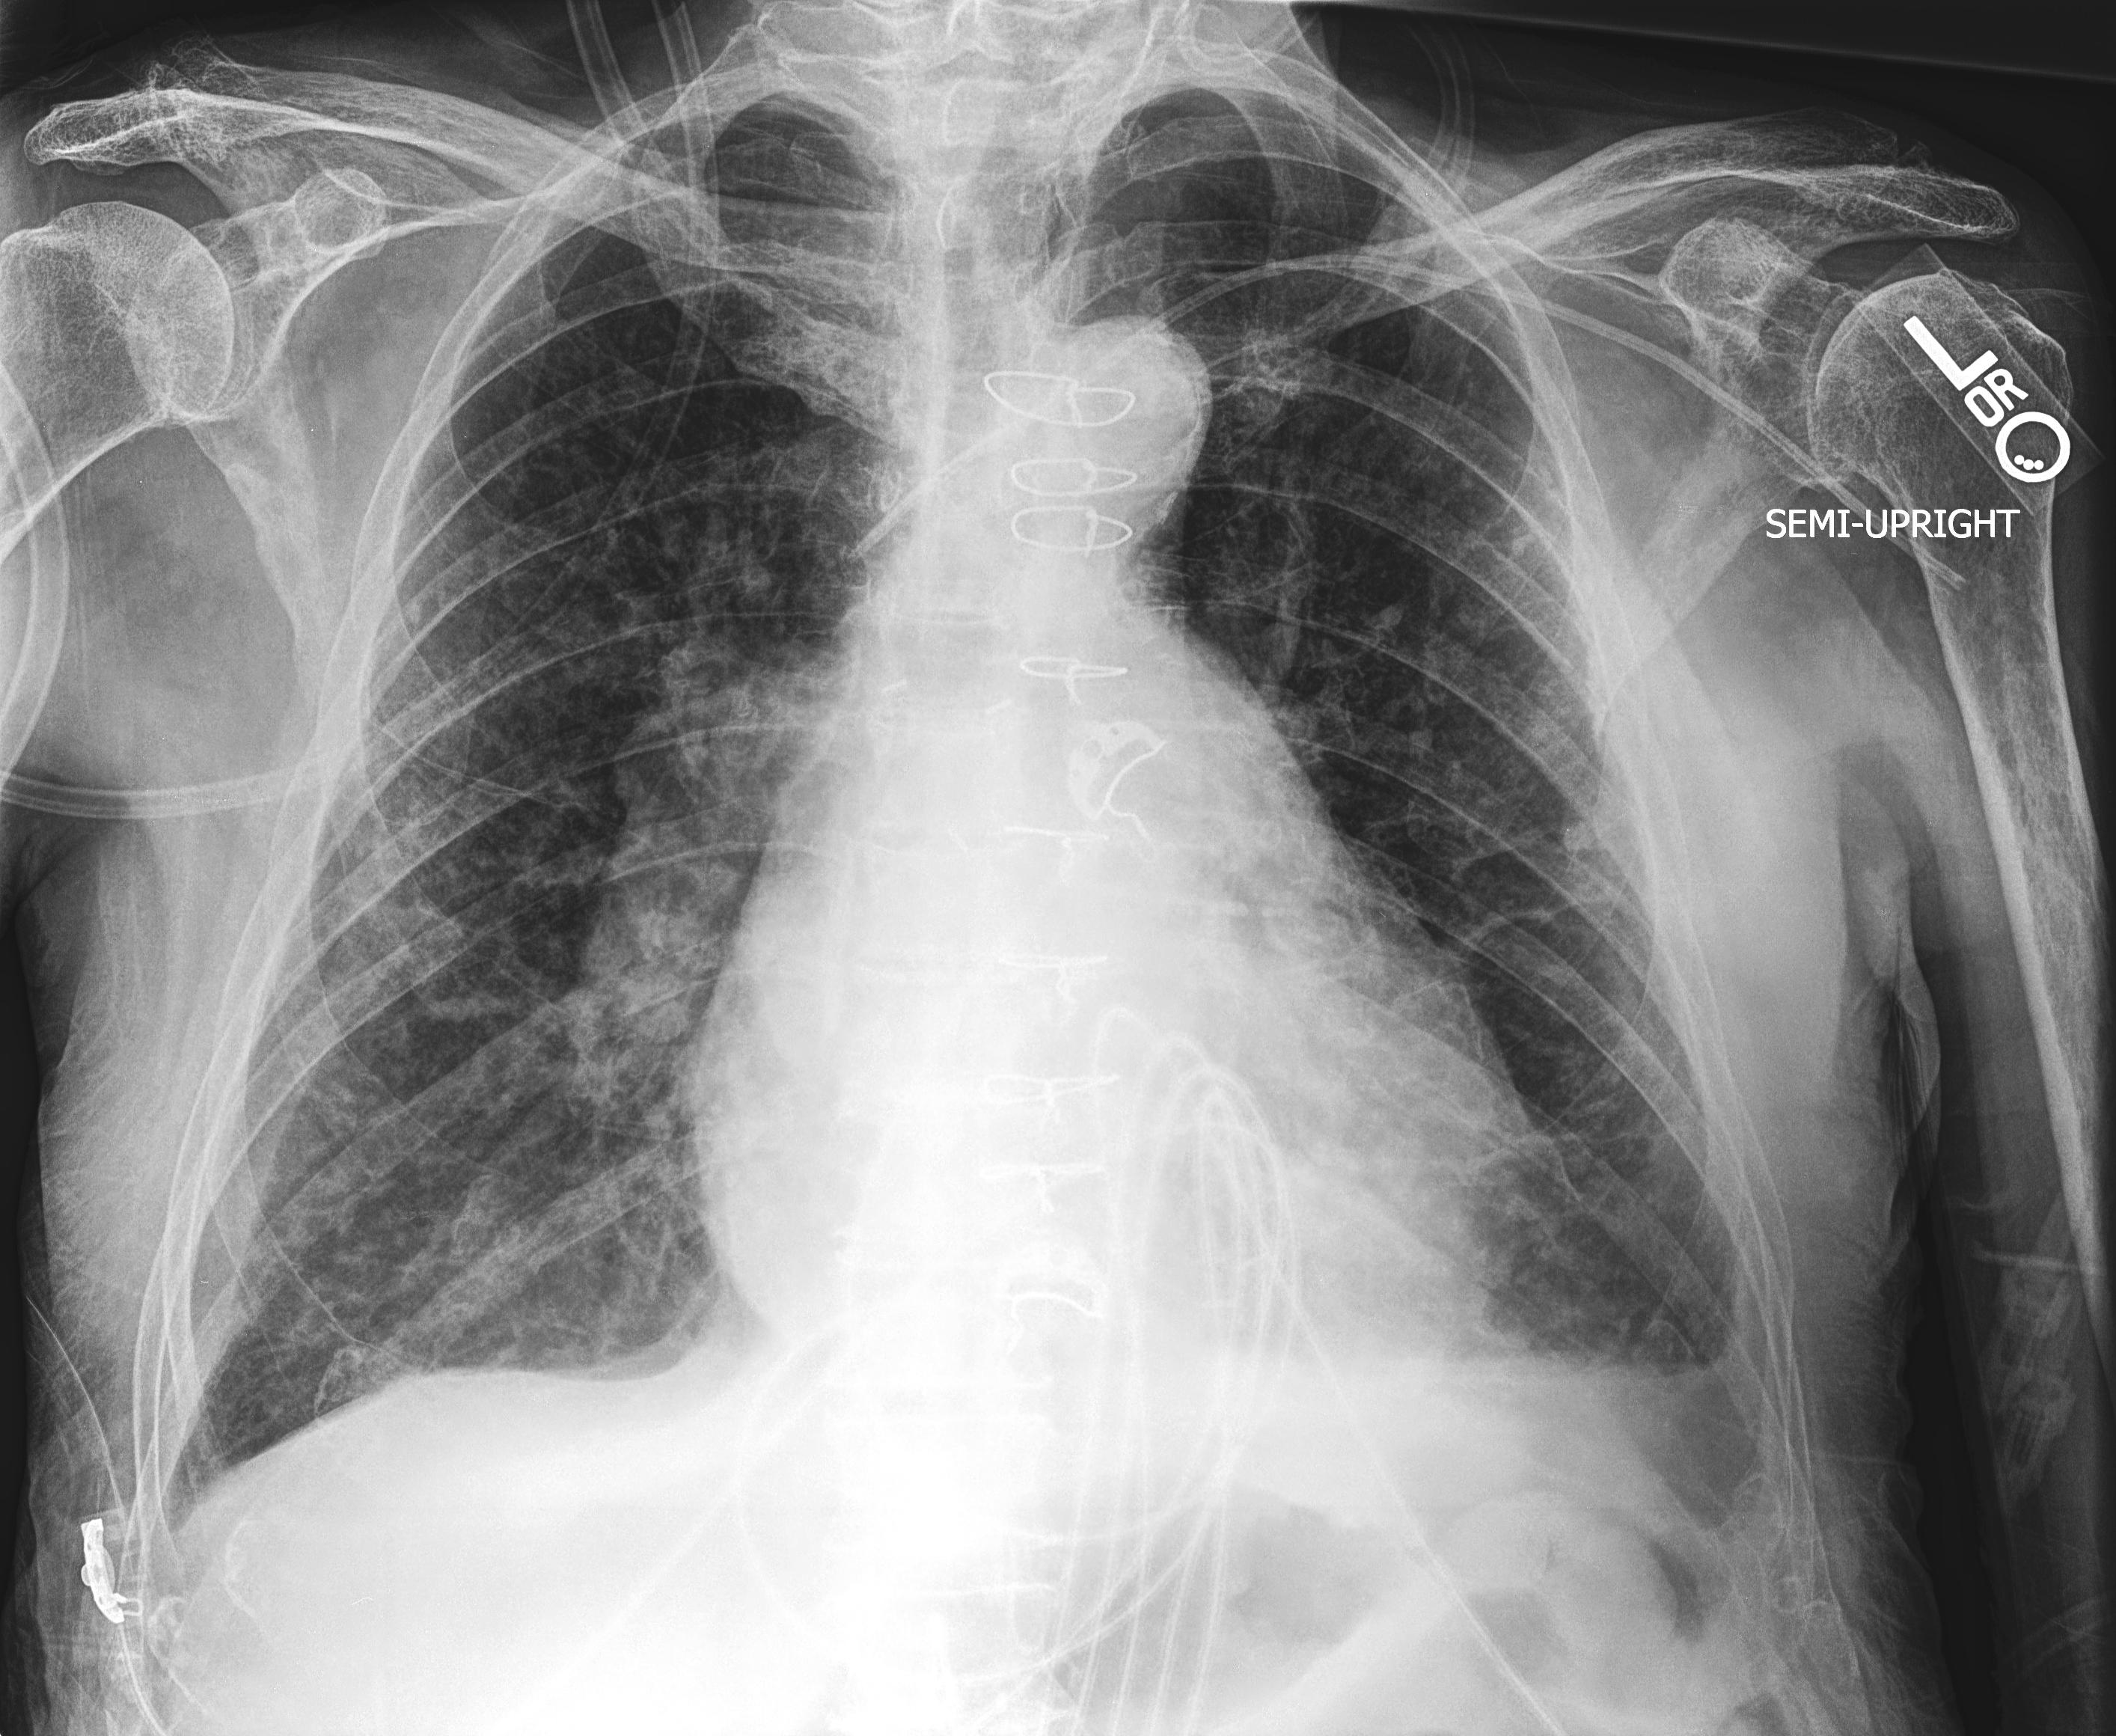Pleural Effusion: (1424, 1351, 1819, 1608)
